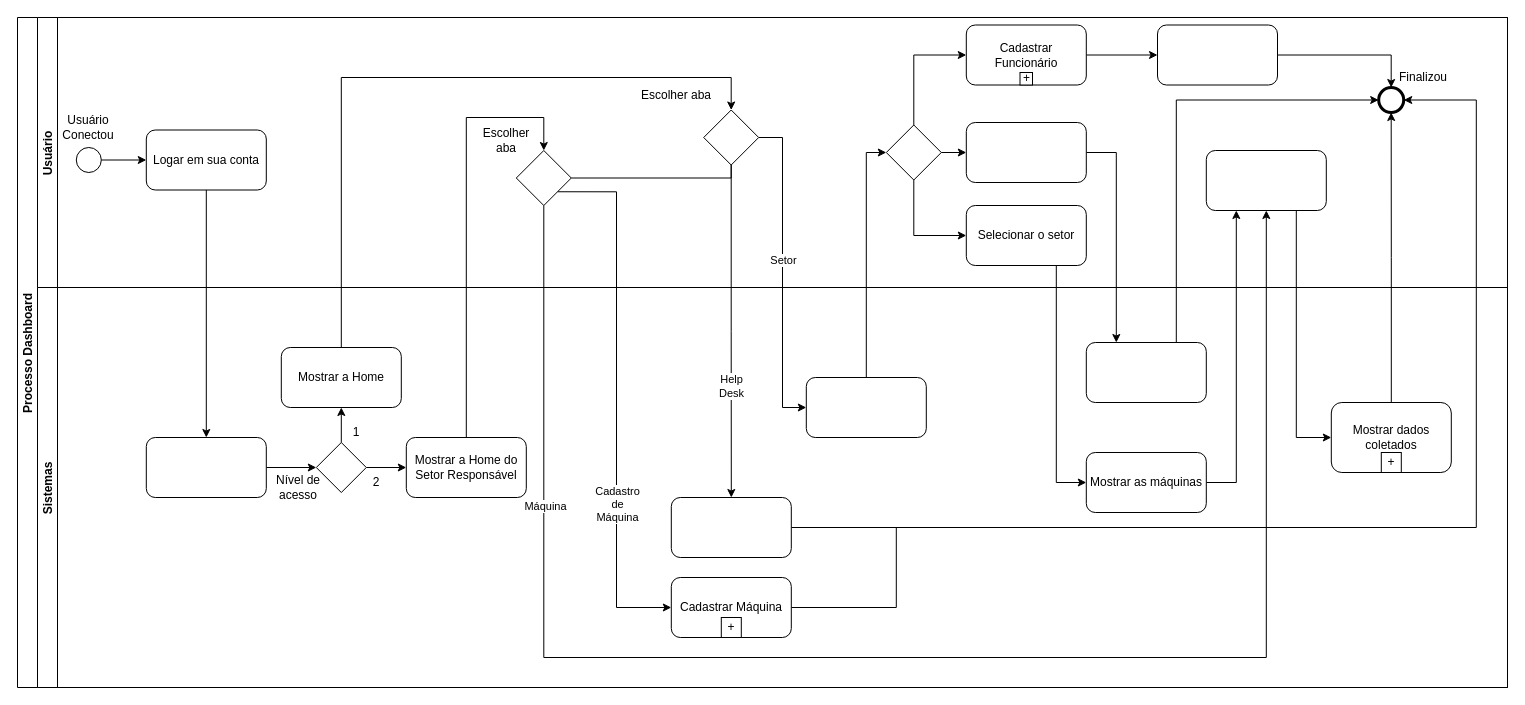
Some shapes in this 1525 by 705 pixel diagram are drawn without their labels. Each missing label, with the centre of its shape:
"Mostrar a página com todos setores e funcionário" belongs at (x=865, y=407).
"Mostrar Funcionário" belongs at (x=1217, y=54).
"Redirecionar para conversa do slack" belongs at (x=1145, y=372).
"Redirecionar para o portal do help desk" belongs at (x=730, y=527).
"Selecionar funcionário" belongs at (x=1025, y=152).
"Selecionar Máquina" belongs at (x=1265, y=180).
"Verificar cadastro no banco de dados" belongs at (x=205, y=467).
